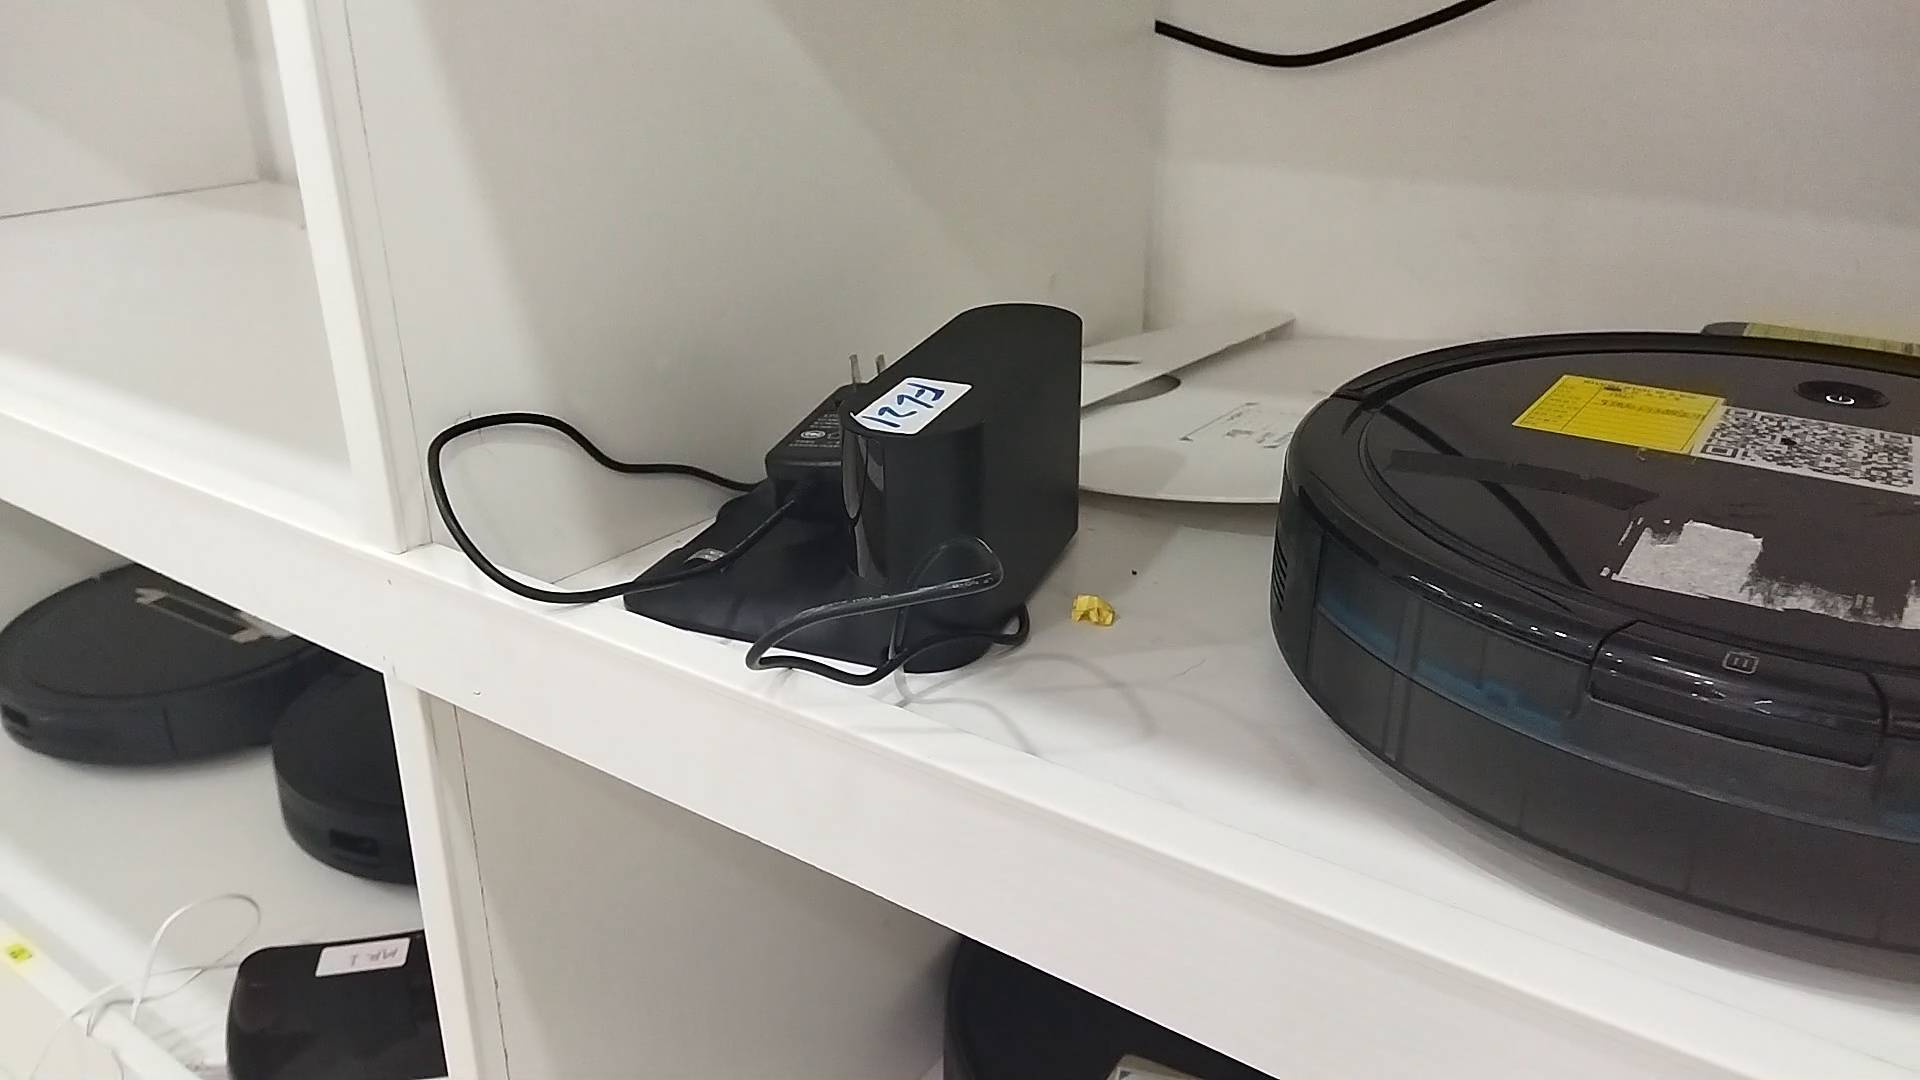recharge seat: (632, 303, 1084, 671)
